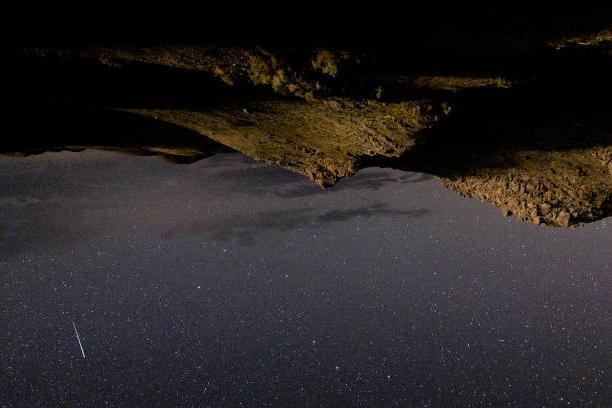meteorite: (65, 308, 101, 369)
